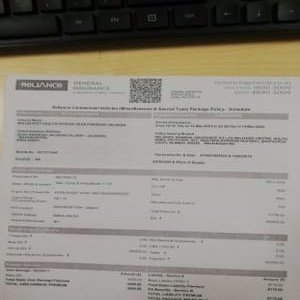image: (15, 78, 70, 92)
table: (10, 166, 291, 234), (12, 111, 292, 175), (5, 228, 288, 271)
